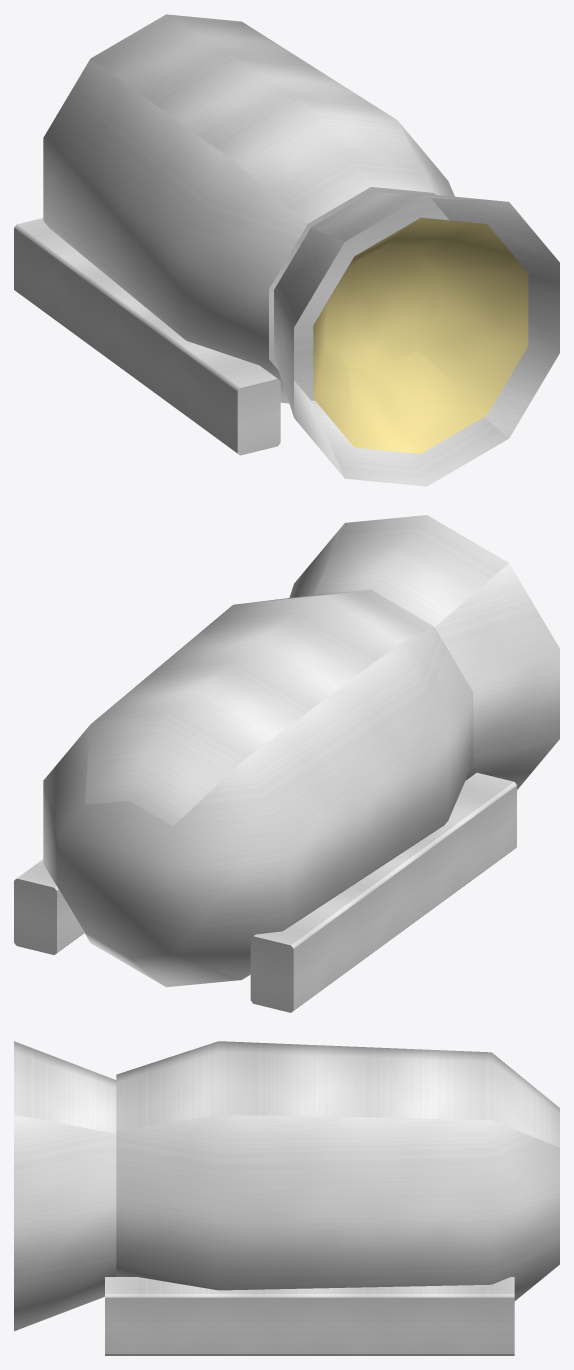
File: ship_engine.obj
3 renders of one model, top to bottom at view 1: azimuth 30°, elevation 25°; view 2: azimuth 150°, elevation 25°; view 3: azimuth 270°, elevation 25°, orthographic. The views are drawn at different scales.
Visible parts, largest first — view 1: retained_0, retained_82, retained_62, left_mount_rail; view 2: retained_0, retained_62, left_mount_rail, right_mount_rail; view 3: retained_0, right_mount_rail, retained_62.
Boxes of the visible parts, <box> form: retained_0: <box>43,14,454,403</box>; retained_82: <box>313,217,528,453</box>; retained_62: <box>274,192,559,486</box>; left_mount_rail: <box>14,218,280,455</box>; retained_0: <box>43,589,473,987</box>; retained_62: <box>289,515,559,789</box>; left_mount_rail: <box>250,772,516,1012</box>; right_mount_rail: <box>14,859,83,954</box>; retained_0: <box>116,1041,559,1300</box>; right_mount_rail: <box>105,1277,514,1355</box>; retained_62: <box>14,1041,116,1331</box>.
Size of the model in its own units: 2.6 by 2.6 by 4.8.
